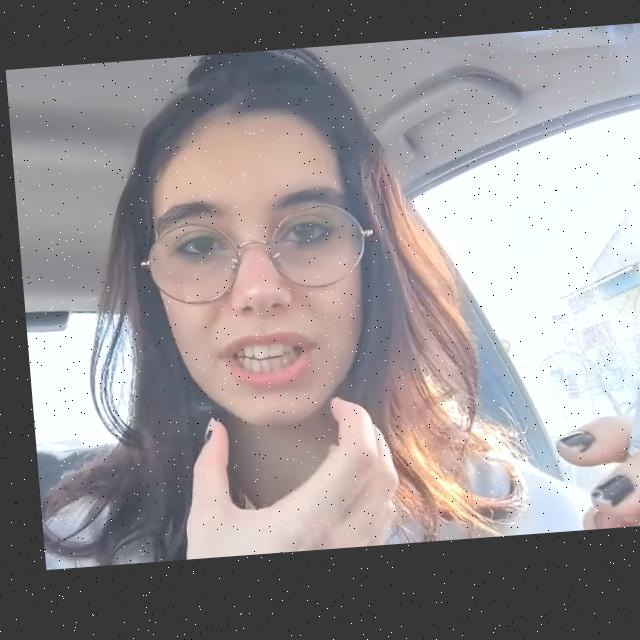cigarette: (596, 302, 640, 533)
